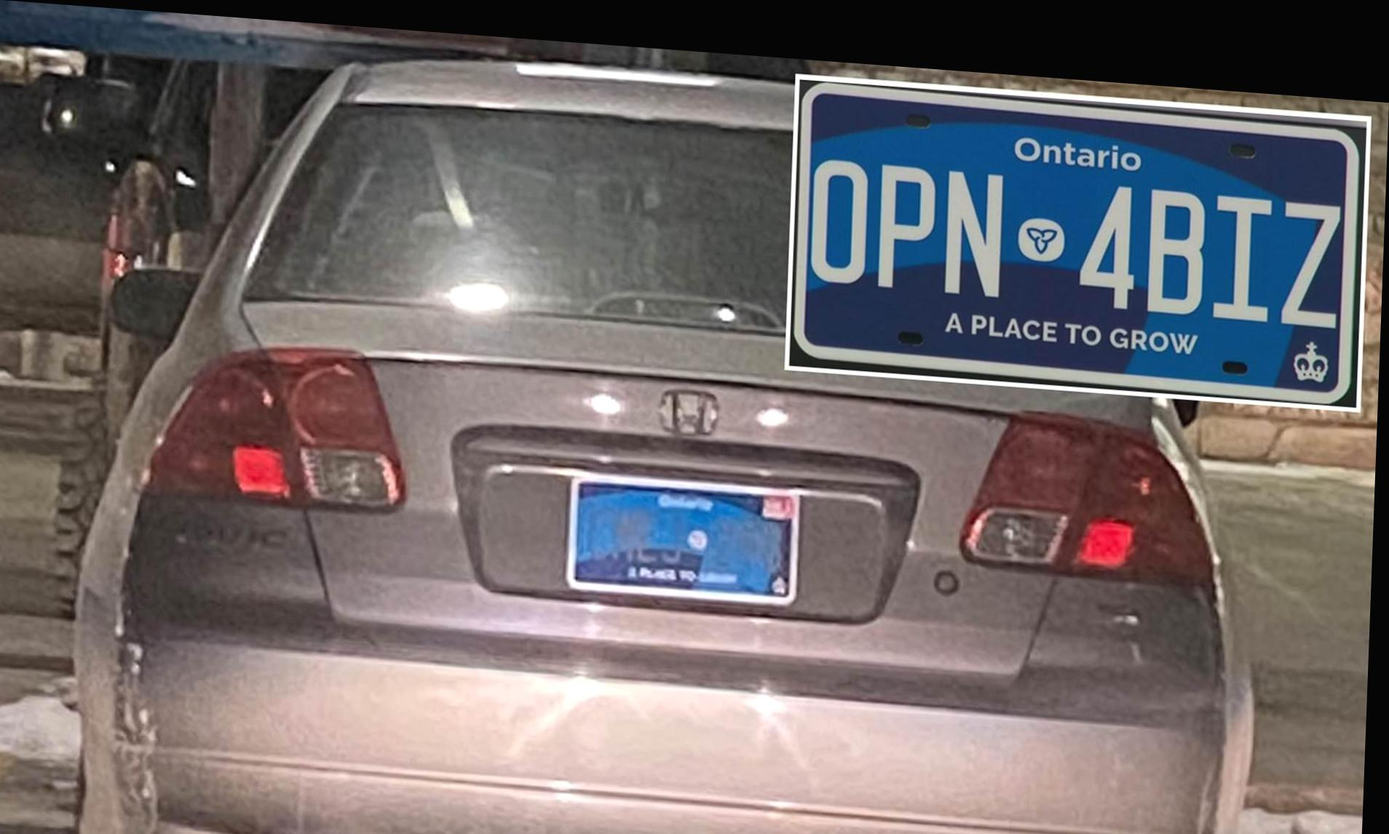License_Plate: (561, 469, 808, 613)
